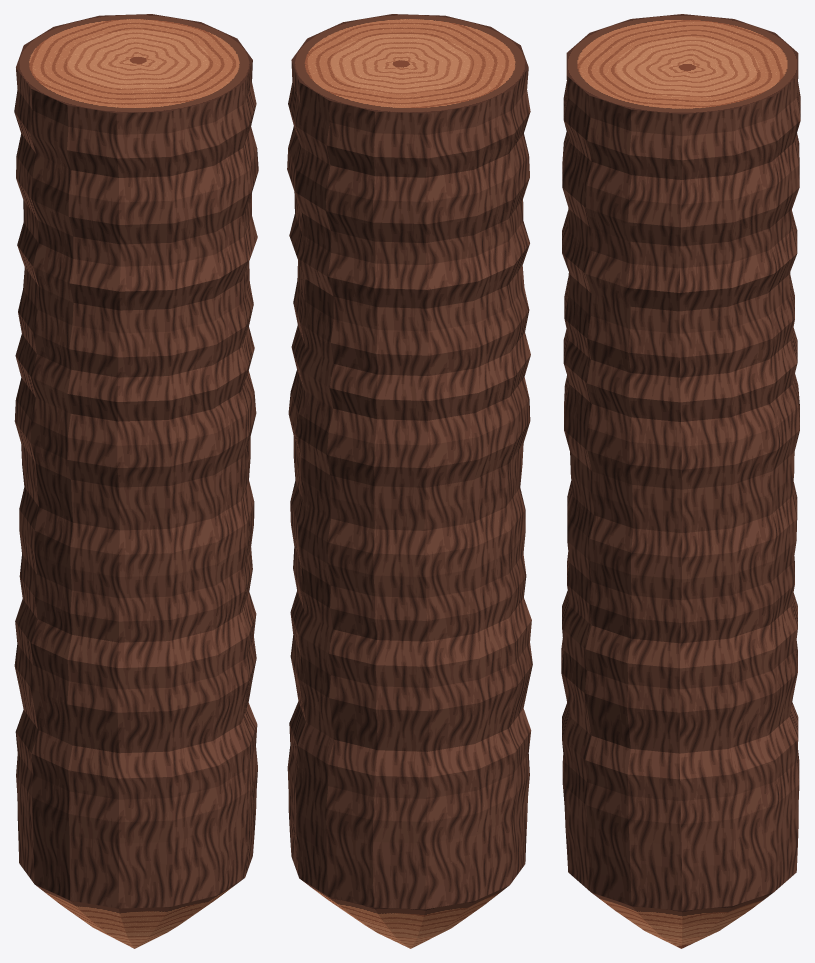
Rendered from environment_redwood2_log_v2.fbx.
3 renders of one model, left to right at view 1: azimuth 30°, elevation 25°; view 2: azimuth 150°, elevation 25°; view 3: azimuth 270°, elevation 25°, orthographic.
Parts seen in each view (by area): view 1: environment_redwood2_log_v2; view 2: environment_redwood2_log_v2; view 3: environment_redwood2_log_v2.
Boxes of the visible parts, x1,y1,x2,y2 form: environment_redwood2_log_v2: (14,14,258,948); environment_redwood2_log_v2: (287,14,532,948); environment_redwood2_log_v2: (561,14,800,948).
Bounding box in the file's own units: 504 × 2000 × 491.
